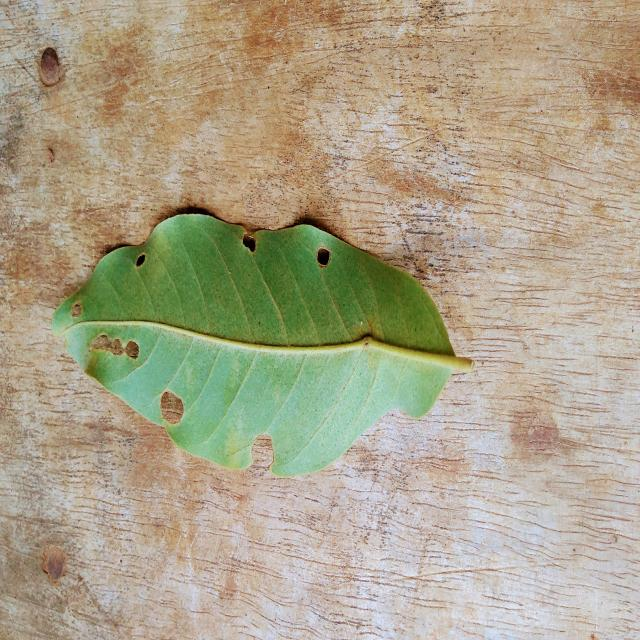leaf spot: (52, 213, 472, 476)
